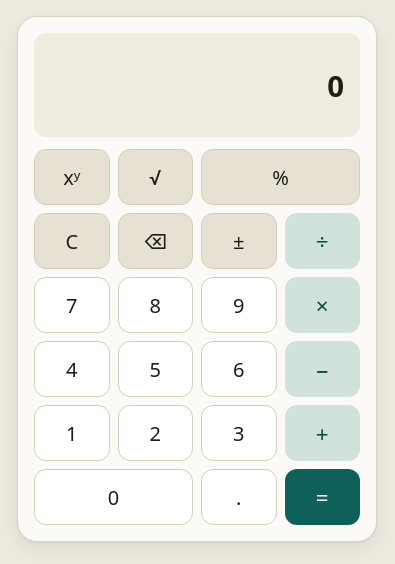
Test: Calculator: basic flows › 1 2 + 3 = shows 15 and sends {a:12,b:3} to /api/v1/add
Click the button "1" at (72, 433), box [34, 405, 110, 461]
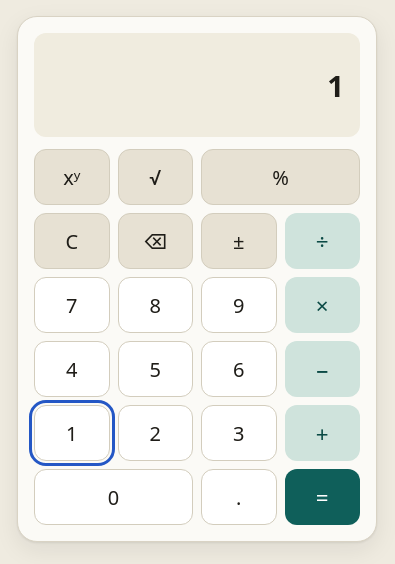
Click the button "2" at (155, 433), box [118, 405, 193, 461]
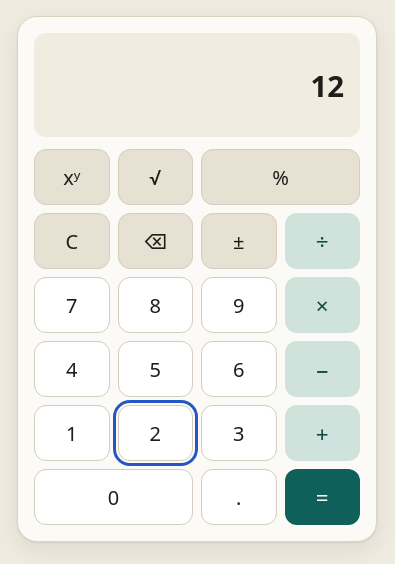
Click the button named "add" at (322, 433), box [284, 405, 360, 461]
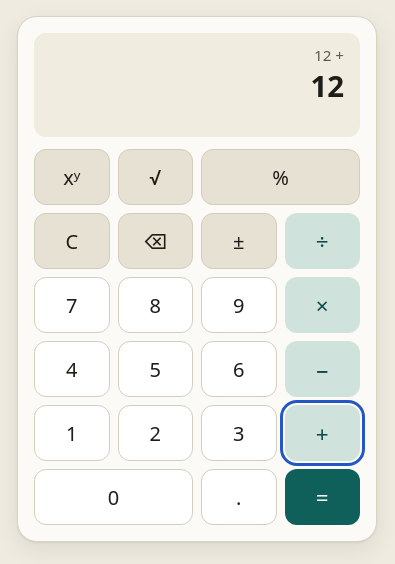
Click the button "3" at (239, 433), box [201, 405, 276, 461]
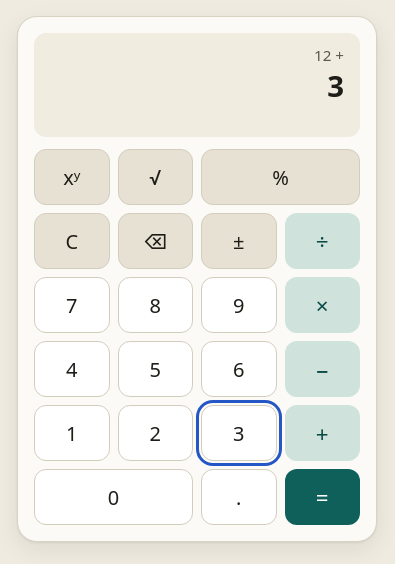
Click the button named "equals" at (322, 497), box [284, 469, 360, 525]
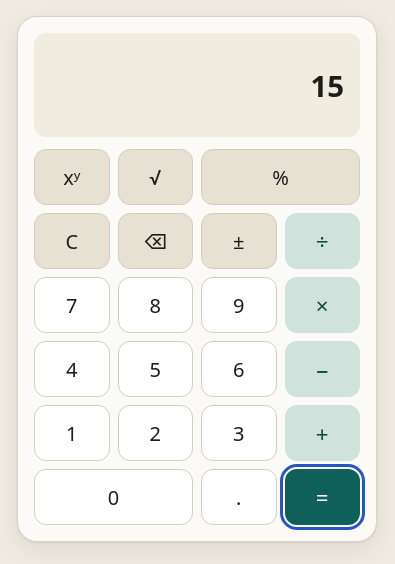
Expected: the message reads "15", [310, 66, 344, 106]
